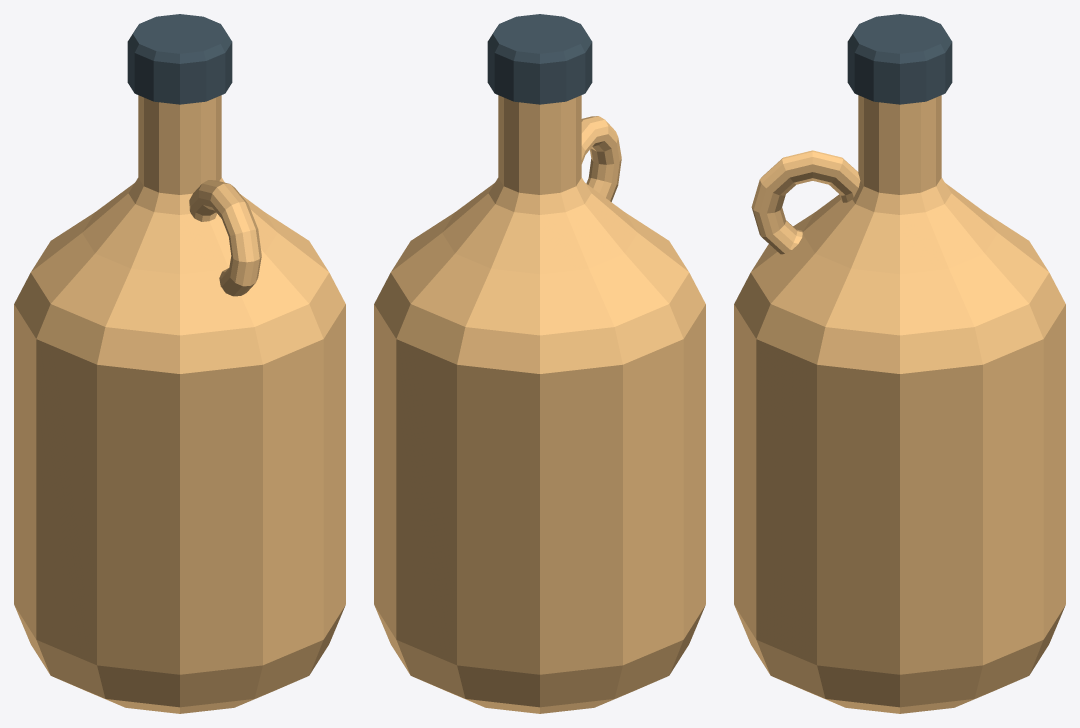
Rendered from palm-wine-gourd.glb.
3 renders of one model, left to right at view 1: azimuth 30°, elevation 25°; view 2: azimuth 150°, elevation 25°; view 3: azimuth 270°, elevation 25°, orthographic.
Parts seen in each view (by area): view 1: Node; view 2: Node; view 3: Node.
Boxes of the visible parts, x1,y1,x2,y2 form: Node: (14,14,345,713); Node: (374,14,705,713); Node: (734,14,1065,713).
Size of the model in its own units: 0.38 by 0.8014 by 0.38.
